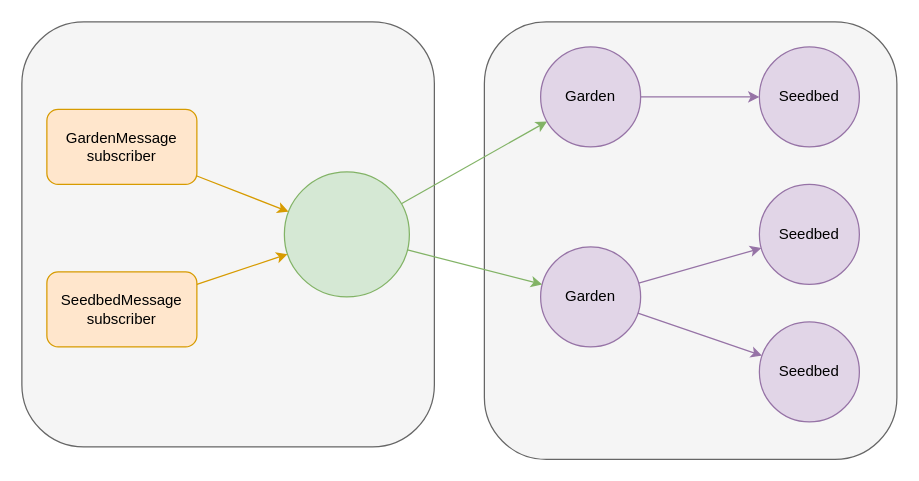
The diagram is 919 pixels wide and 481 high, and some of its shapes have lost their labels. Here are the shapes that lost their labels. From the top down, the box of each, then its label:
(21, 21, 434, 447): Main
(283, 171, 409, 297): Gardener
(483, 21, 897, 459): Digital twins
